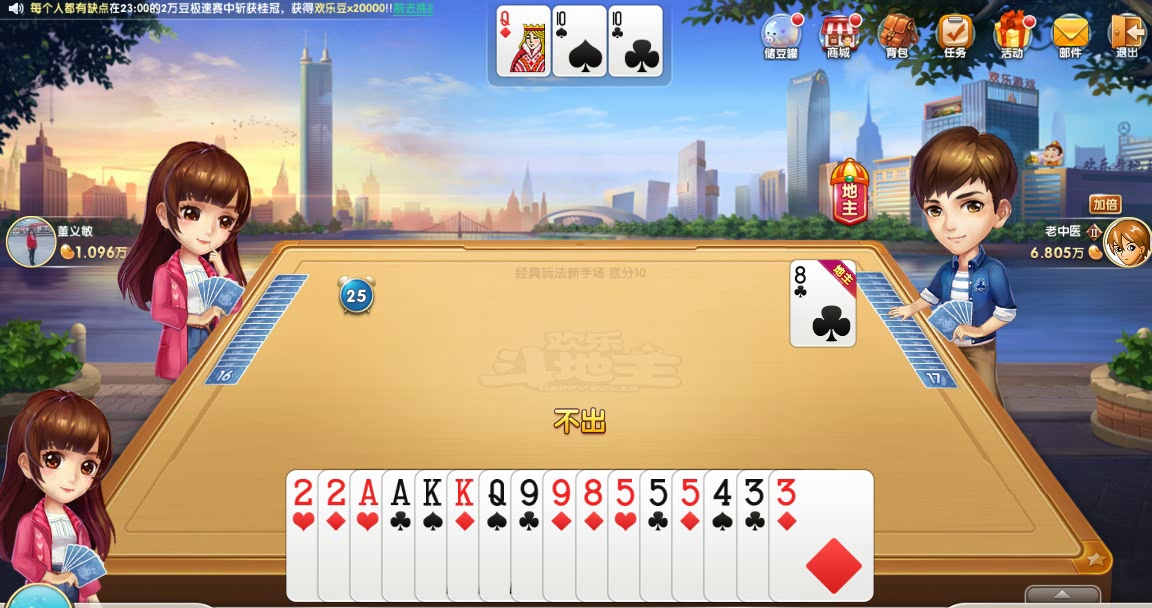10~2: (608, 4, 664, 76)
10~4: (552, 4, 608, 76)
12~1: (497, 5, 553, 77)
12~4: (479, 469, 585, 602)
13~1: (447, 469, 553, 602)
13~4: (413, 469, 519, 602)
14~2: (382, 469, 488, 602)
14~3: (349, 469, 455, 602)
15~1: (318, 469, 424, 602)
15~3: (286, 469, 392, 602)
3~1: (769, 469, 875, 602)
3~2: (737, 469, 843, 602)
4~4: (704, 469, 810, 602)
5~1: (672, 469, 778, 602)
5~2: (640, 469, 746, 602)
5~3: (607, 469, 713, 602)
8~1: (575, 469, 681, 602)
8~2: (790, 259, 856, 347)
9~1: (543, 469, 649, 602)
9~2: (511, 469, 617, 602)
